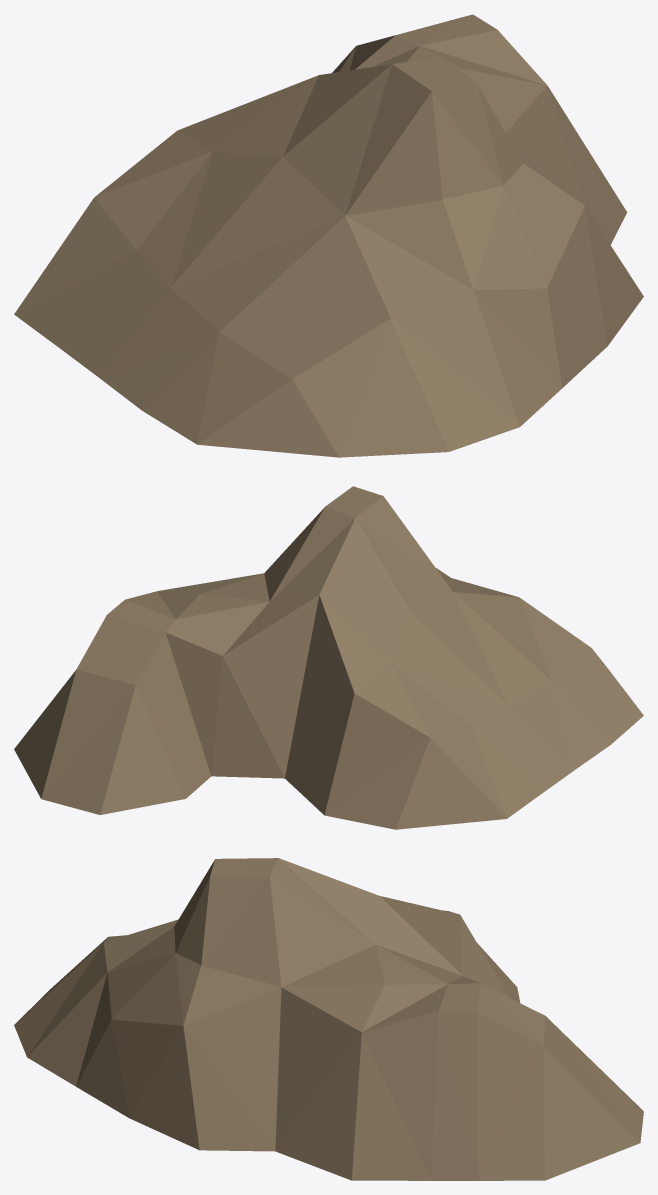
File: SM_Env_Hills_04_01.obj
3 renders of one model, top to bottom at view 1: azimuth 30°, elevation 25°; view 2: azimuth 150°, elevation 25°; view 3: azimuth 270°, elevation 25°, orthographic. The views are drawn at different scales.
Visible parts, largest first — view 1: SM_Env_Hills_09:Mesh; view 2: SM_Env_Hills_09:Mesh; view 3: SM_Env_Hills_09:Mesh.
Boxes of the visible parts, left/top/right/bottom form: SM_Env_Hills_09:Mesh: left=14, top=14, right=643, bottom=457; SM_Env_Hills_09:Mesh: left=14, top=486, right=643, bottom=829; SM_Env_Hills_09:Mesh: left=14, top=858, right=643, bottom=1180.
Bounding box in the file's own units: 19 × 7.94 × 21.73.
Materials: 1 (1 with a texture image).
